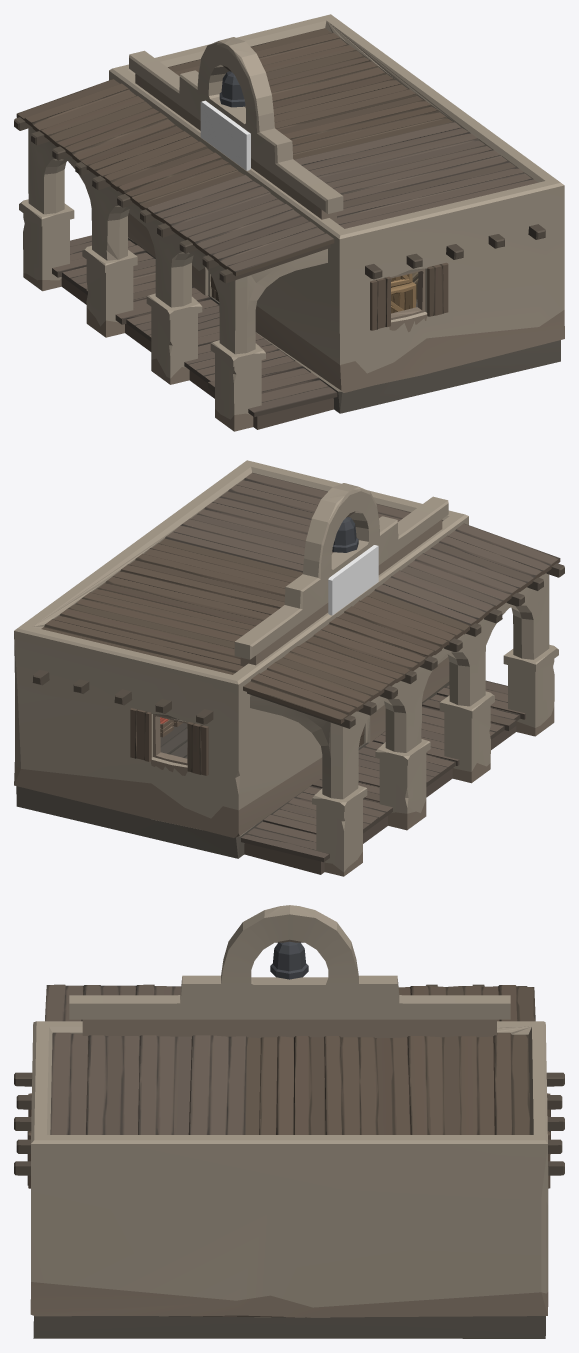
Rendered from Gun_shop.glb.
3 renders of one model, top to bottom at view 1: azimuth 30°, elevation 25°; view 2: azimuth 150°, elevation 25°; view 3: azimuth 270°, elevation 25°, orthographic. The views are drawn at different scales.
Parts seen in each view (by area): view 1: Gun_shop, SM_Bld_Sign_12, SM_Gen_Prop_Crate_03__1_; view 2: Gun_shop, SM_Bld_Sign_12; view 3: Gun_shop.
Boxes of the visible parts, left/top/right/bottom form: Gun_shop: left=14, top=14, right=564, bottom=431; SM_Bld_Sign_12: left=200, top=100, right=250, bottom=170; SM_Gen_Prop_Crate_03__1_: left=391, top=282, right=416, bottom=313; Gun_shop: left=14, top=460, right=564, bottom=876; SM_Bld_Sign_12: left=328, top=545, right=378, bottom=615; Gun_shop: left=14, top=905, right=564, bottom=1338.
Bounding box in the file's own units: 7.39 × 6.07 × 9.6.
17 materials, 3 textured.
